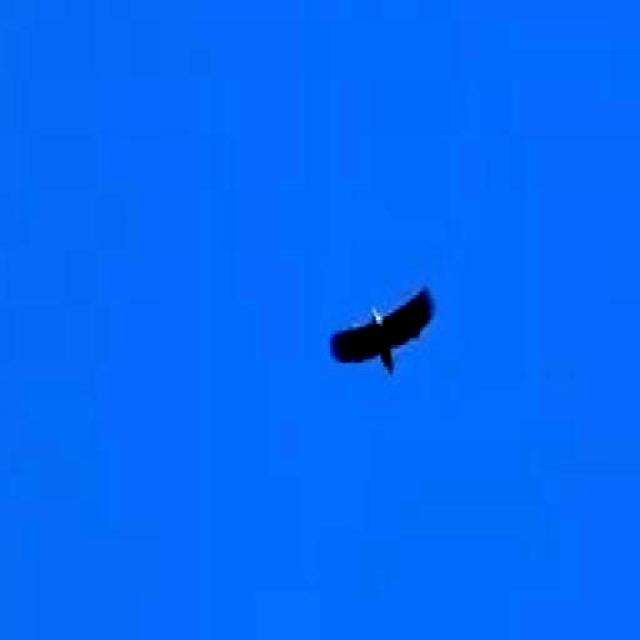airplane: (324, 259, 430, 395)
